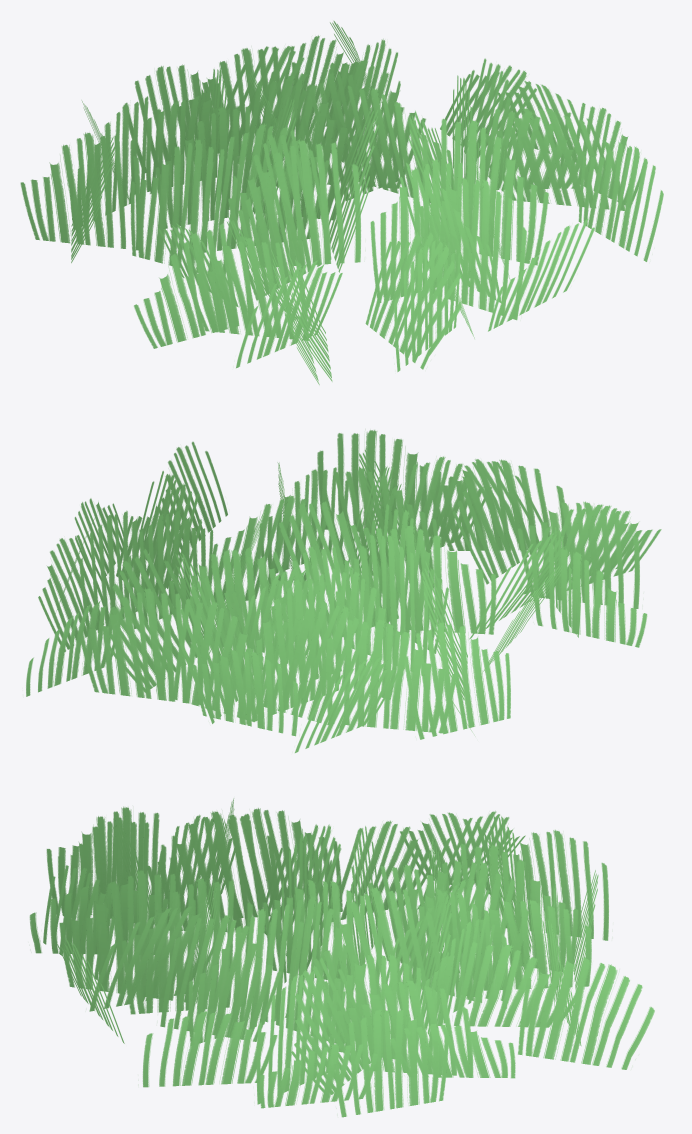
Rendered from grass.glb.
3 views of the same model, one above another, from view 1: azimuth 30°, elevation 25°; view 2: azimuth 150°, elevation 25°; view 3: azimuth 270°, elevation 25° (orthographic). The views are drawn at different scales.
Visible parts, largest first — view 1: IL3DN_Plant_Grass_01_LOD0; view 2: IL3DN_Plant_Grass_01_LOD0; view 3: IL3DN_Plant_Grass_01_LOD0.
Part boxes in pixels (left/top/right/bottom): IL3DN_Plant_Grass_01_LOD0: left=20, top=20, right=663, bottom=385; IL3DN_Plant_Grass_01_LOD0: left=26, top=430, right=661, bottom=752; IL3DN_Plant_Grass_01_LOD0: left=29, top=798, right=654, bottom=1117.
Size of the model in its own units: 1.58 by 0.3797 by 1.68.
Materials: 1 (1 with a texture image).
